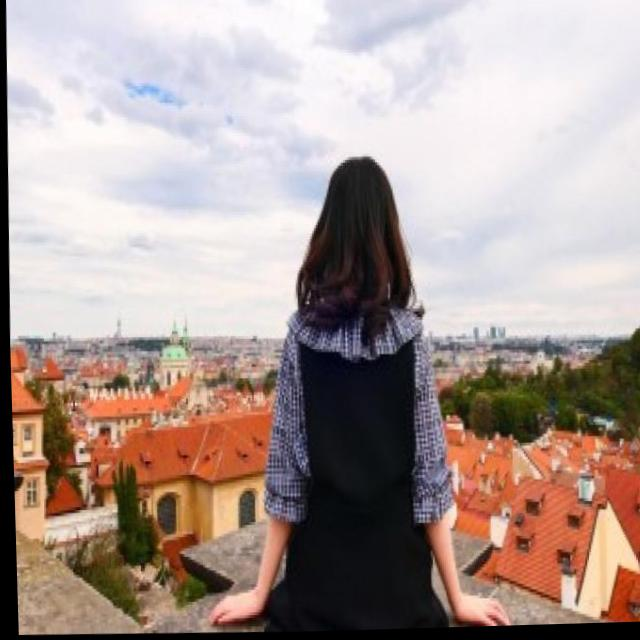no helmet: (286, 126, 426, 349)
